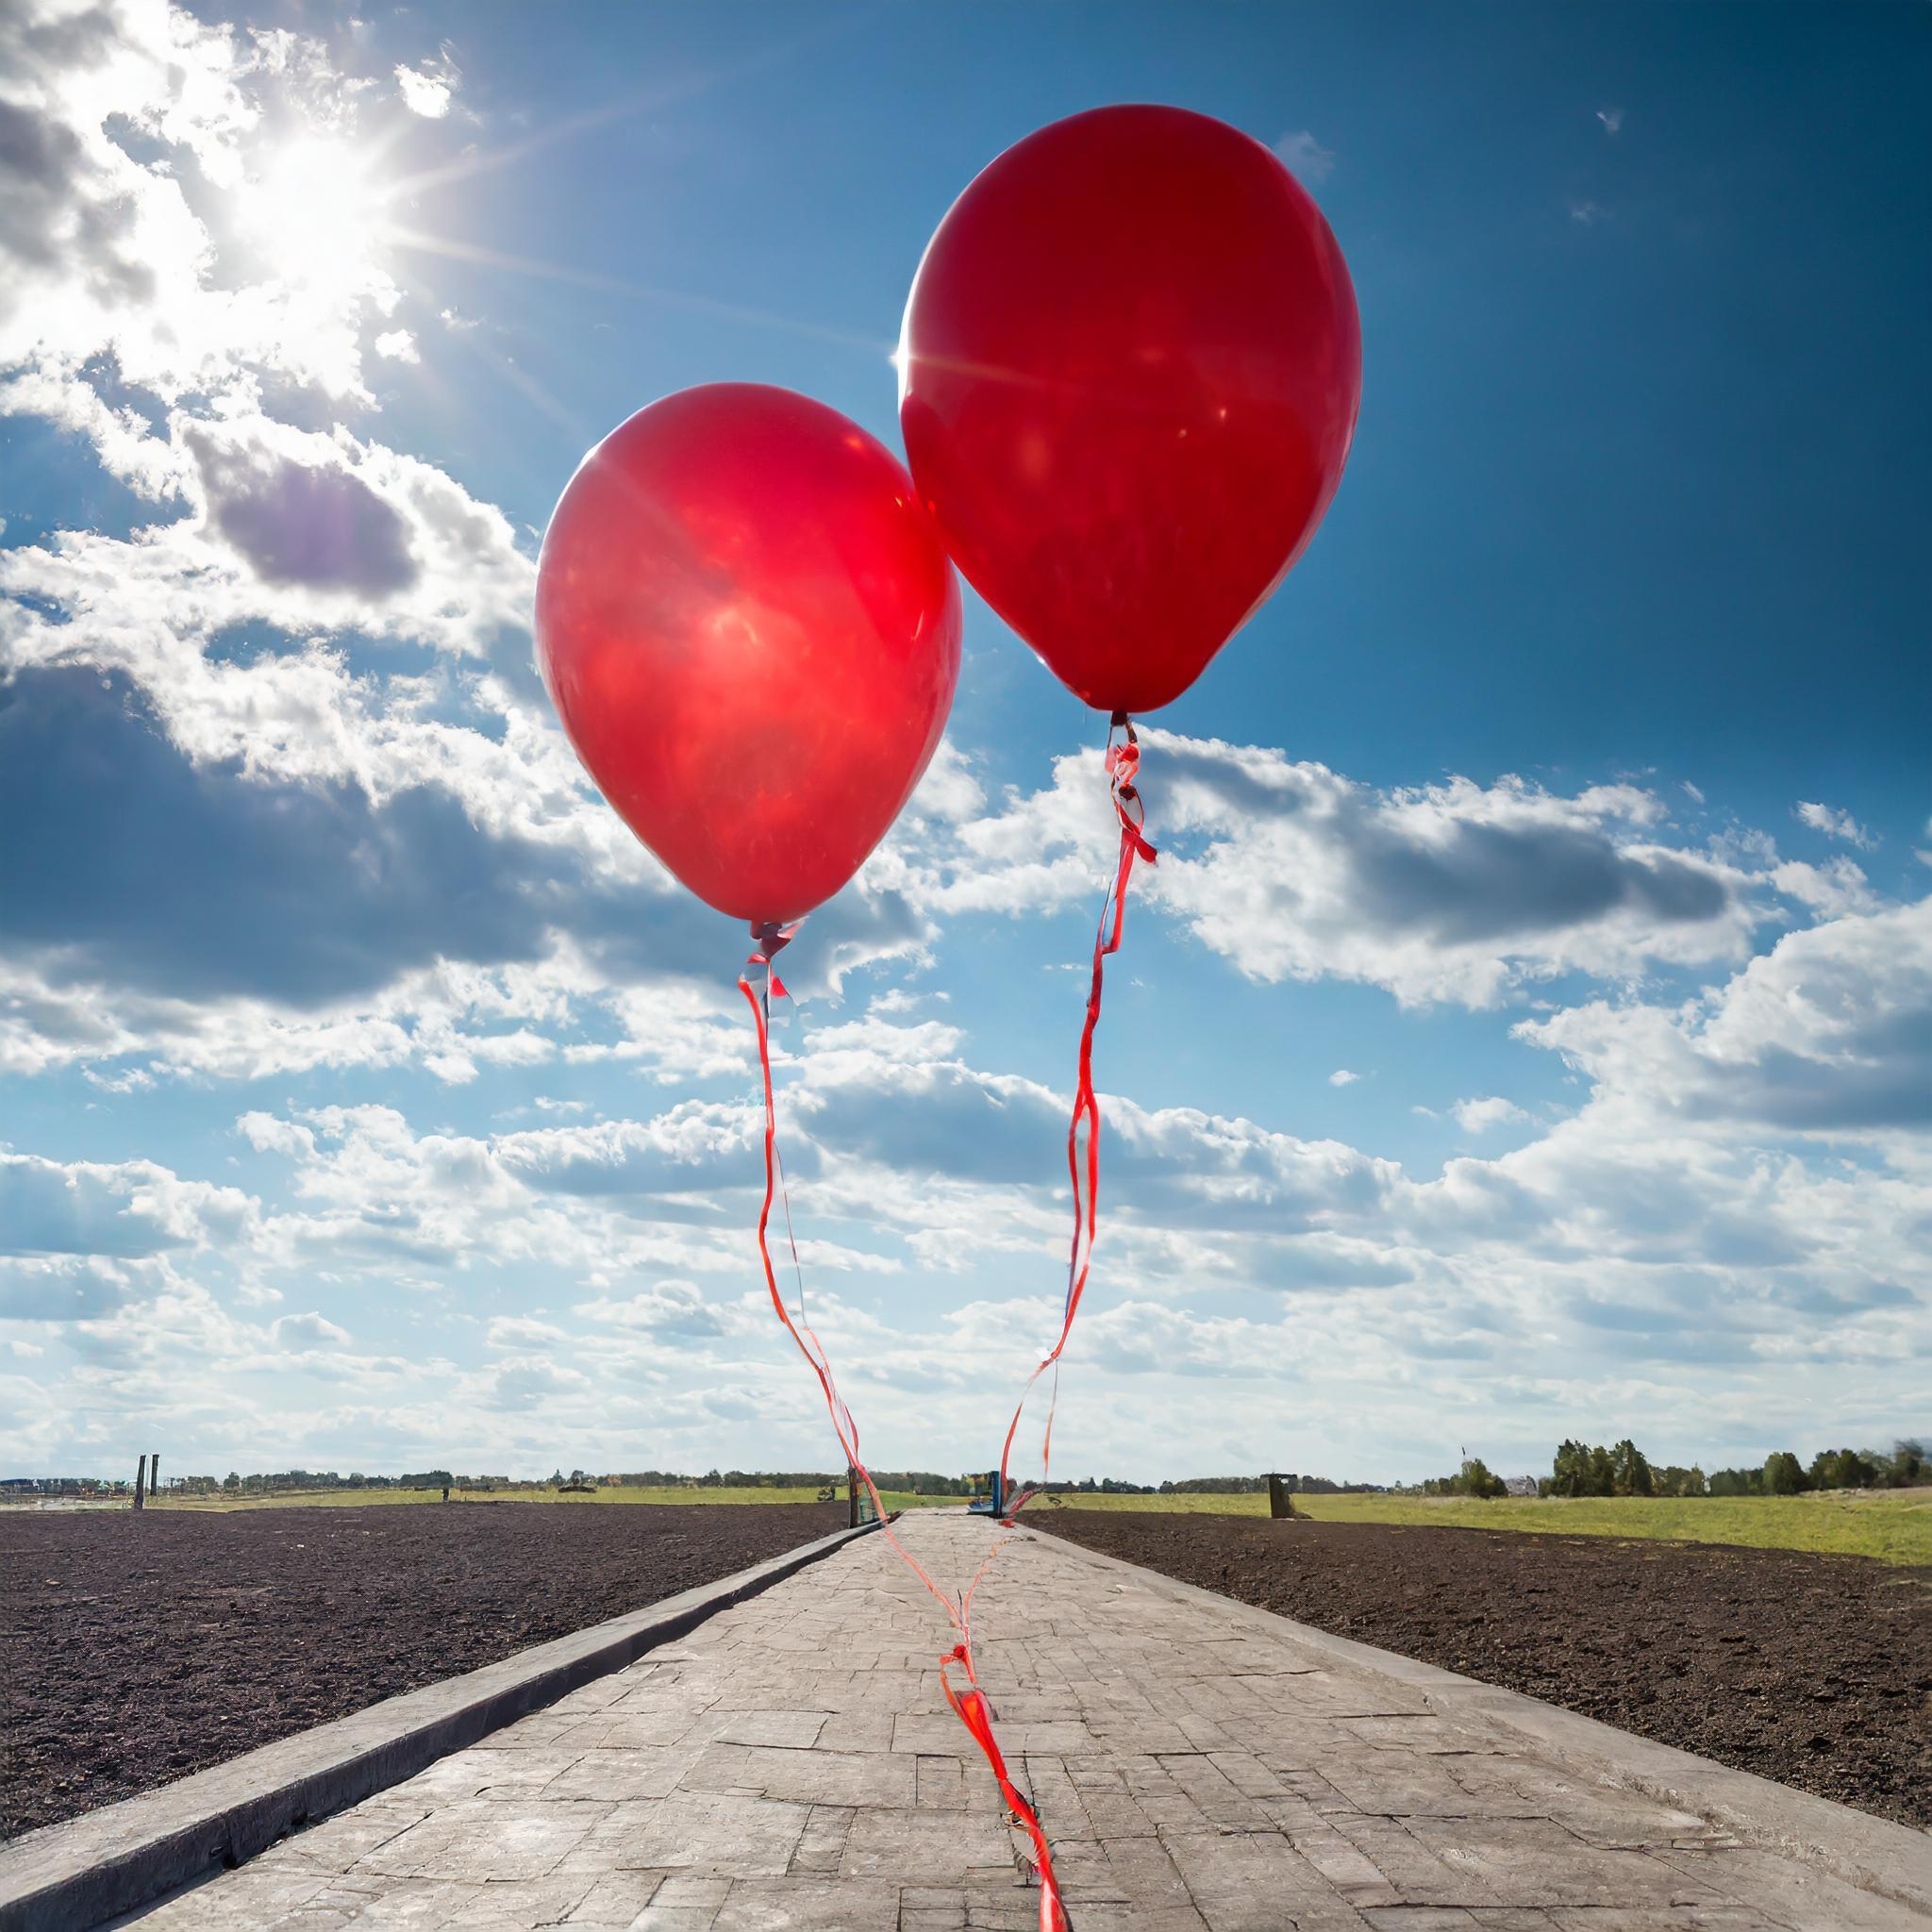red: (897, 90, 1376, 787), (524, 373, 984, 994)
